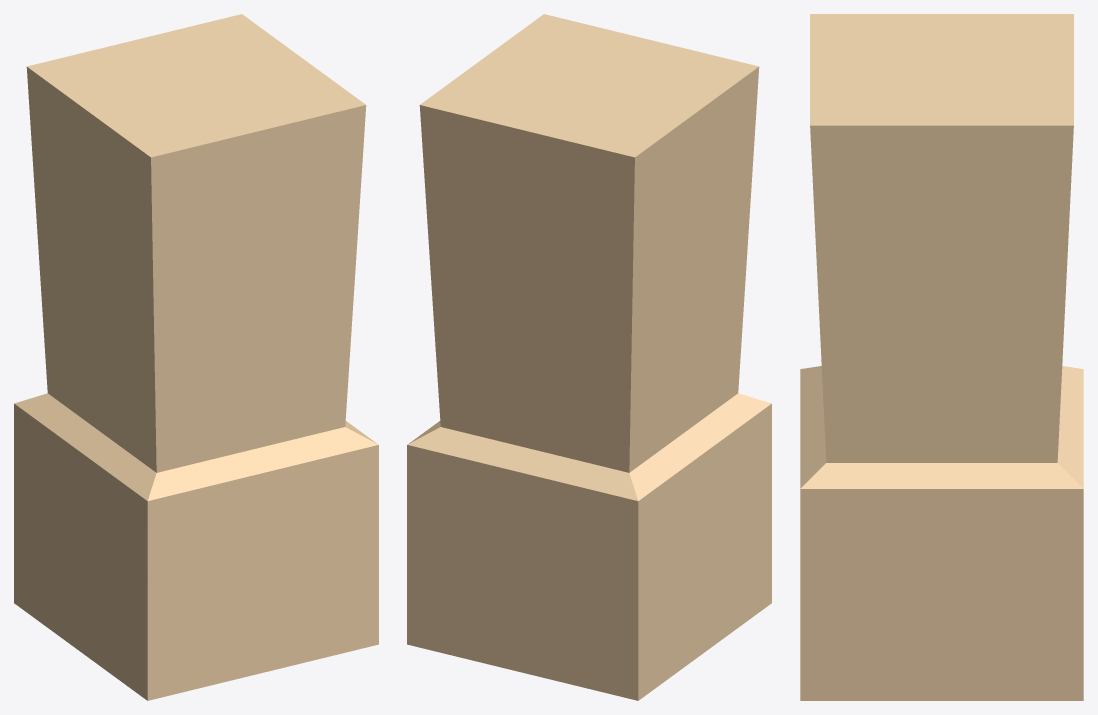
File: Thor_Hand 1.FBX
3 views of the same model, side by side, from view 1: azimuth 30°, elevation 25°; view 2: azimuth 150°, elevation 25°; view 3: azimuth 270°, elevation 25° (orthographic). The views are drawn at different scales.
Visible parts, largest first — view 1: Hand; view 2: Hand; view 3: Hand.
Boxes of the visible parts, x1,y1,x2,y2 form: Hand: [14, 14, 378, 700]; Hand: [407, 14, 771, 700]; Hand: [800, 14, 1083, 700].
Bounding box in the file's own units: 4.29 × 4.29 × 9.54.
Materials: 1 (1 with a texture image).
